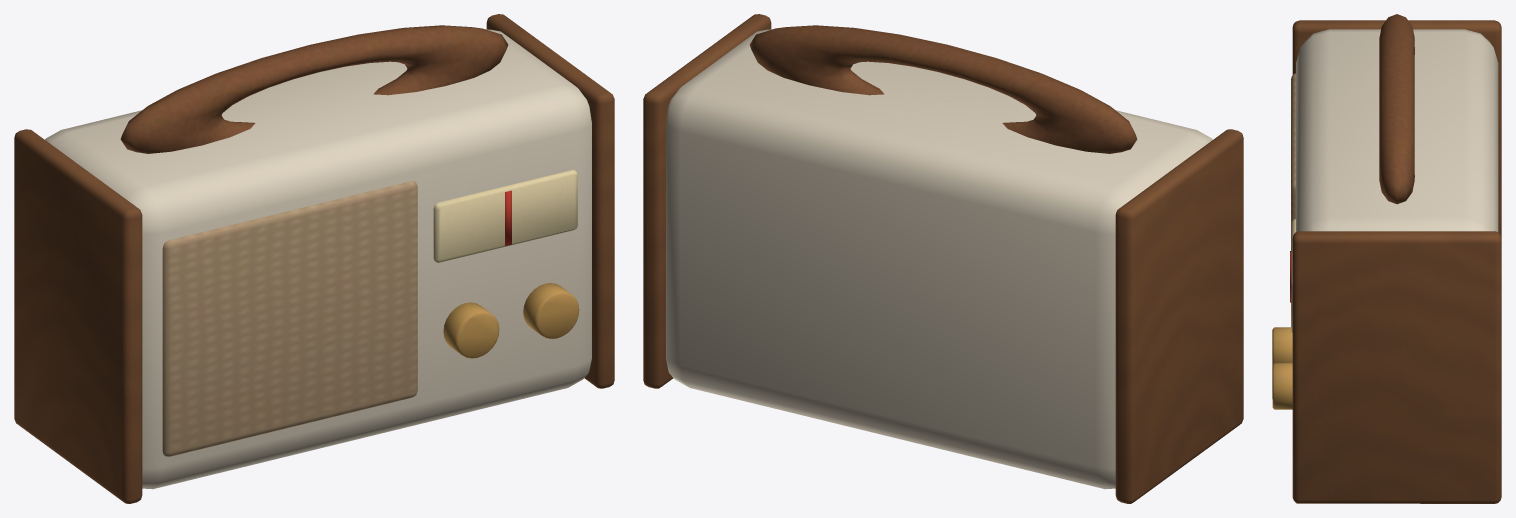
File: keepsake-radio.glb
3 views of the same model, side by side, from view 1: azimuth 30°, elevation 25°; view 2: azimuth 150°, elevation 25°; view 3: azimuth 270°, elevation 25° (orthographic). The views are drawn at different scales.
Parts seen in each view (by area): view 1: keepsake-radio; view 2: keepsake-radio; view 3: keepsake-radio.
Boxes of the visible parts, x1,y1,x2,y2 form: keepsake-radio: (14,14,614,503); keepsake-radio: (643,14,1243,503); keepsake-radio: (1272,14,1501,503).
Bounding box in the file's own units: 0.3 × 0.2114 × 0.1325.
1 material, 1 textured.
